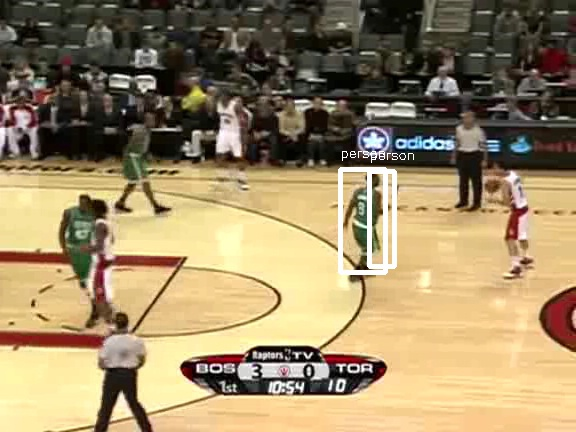person: (350, 180, 384, 261), (349, 180, 383, 261), (351, 180, 385, 261), (350, 179, 384, 260), (350, 181, 384, 262)
target_negative: (58, 18, 431, 411), (17, 338, 236, 424), (267, 326, 512, 397), (489, 212, 521, 244), (557, 211, 563, 336), (330, 389, 345, 403)
